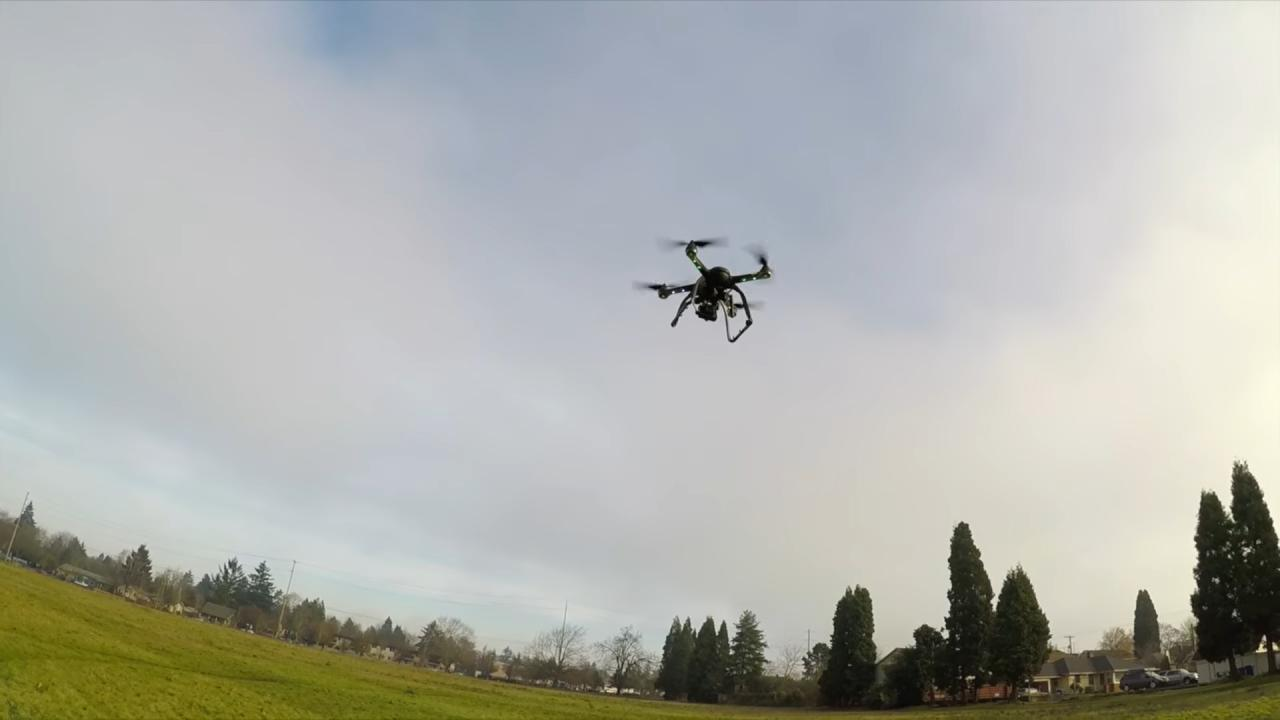Drone: (624, 223, 790, 353)
